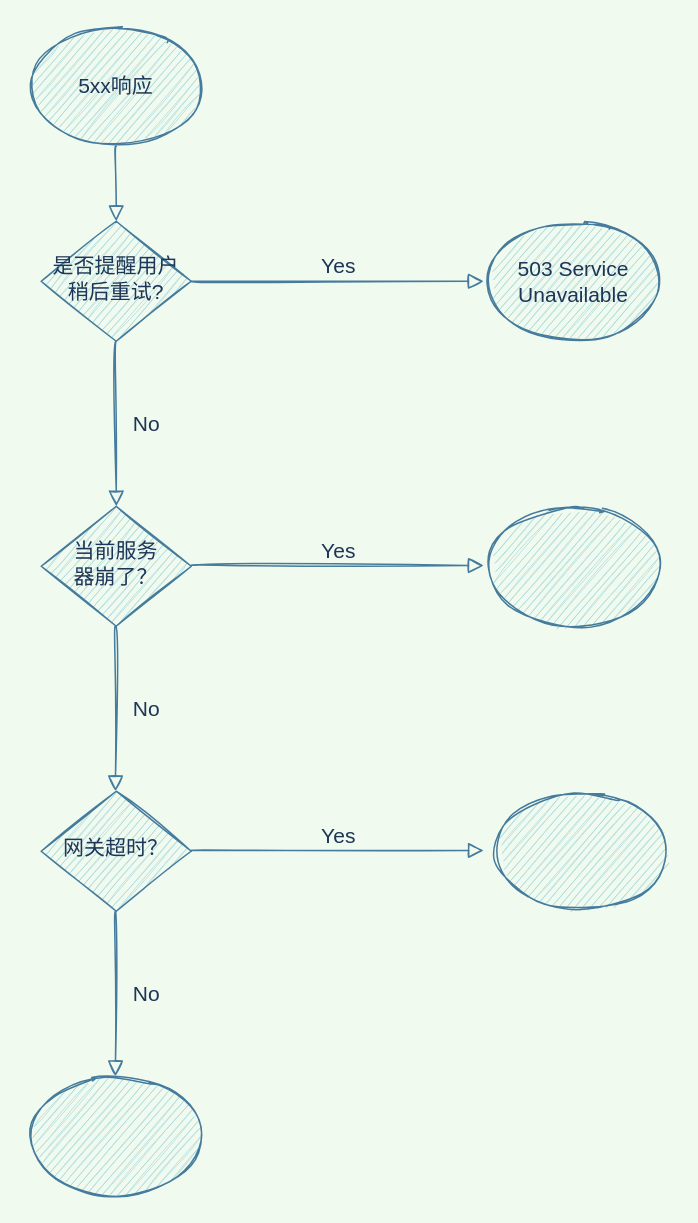
Image size: 698x1223. Some labels were removed from this diagram. Each missing label, with the centre of its shape:
502 Bad Gateway: the point at 573,565
504 Gateway Timeout: the point at 580,850
5xx Internal Server Error: the point at 115,1135
